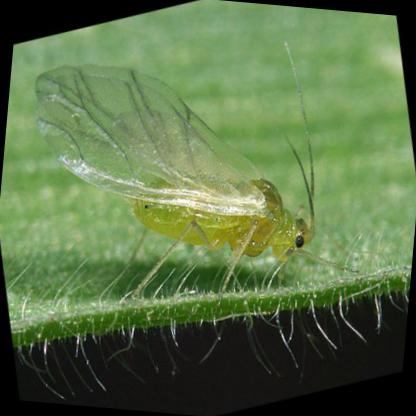schizaphis graminum: (28, 66, 312, 267)
